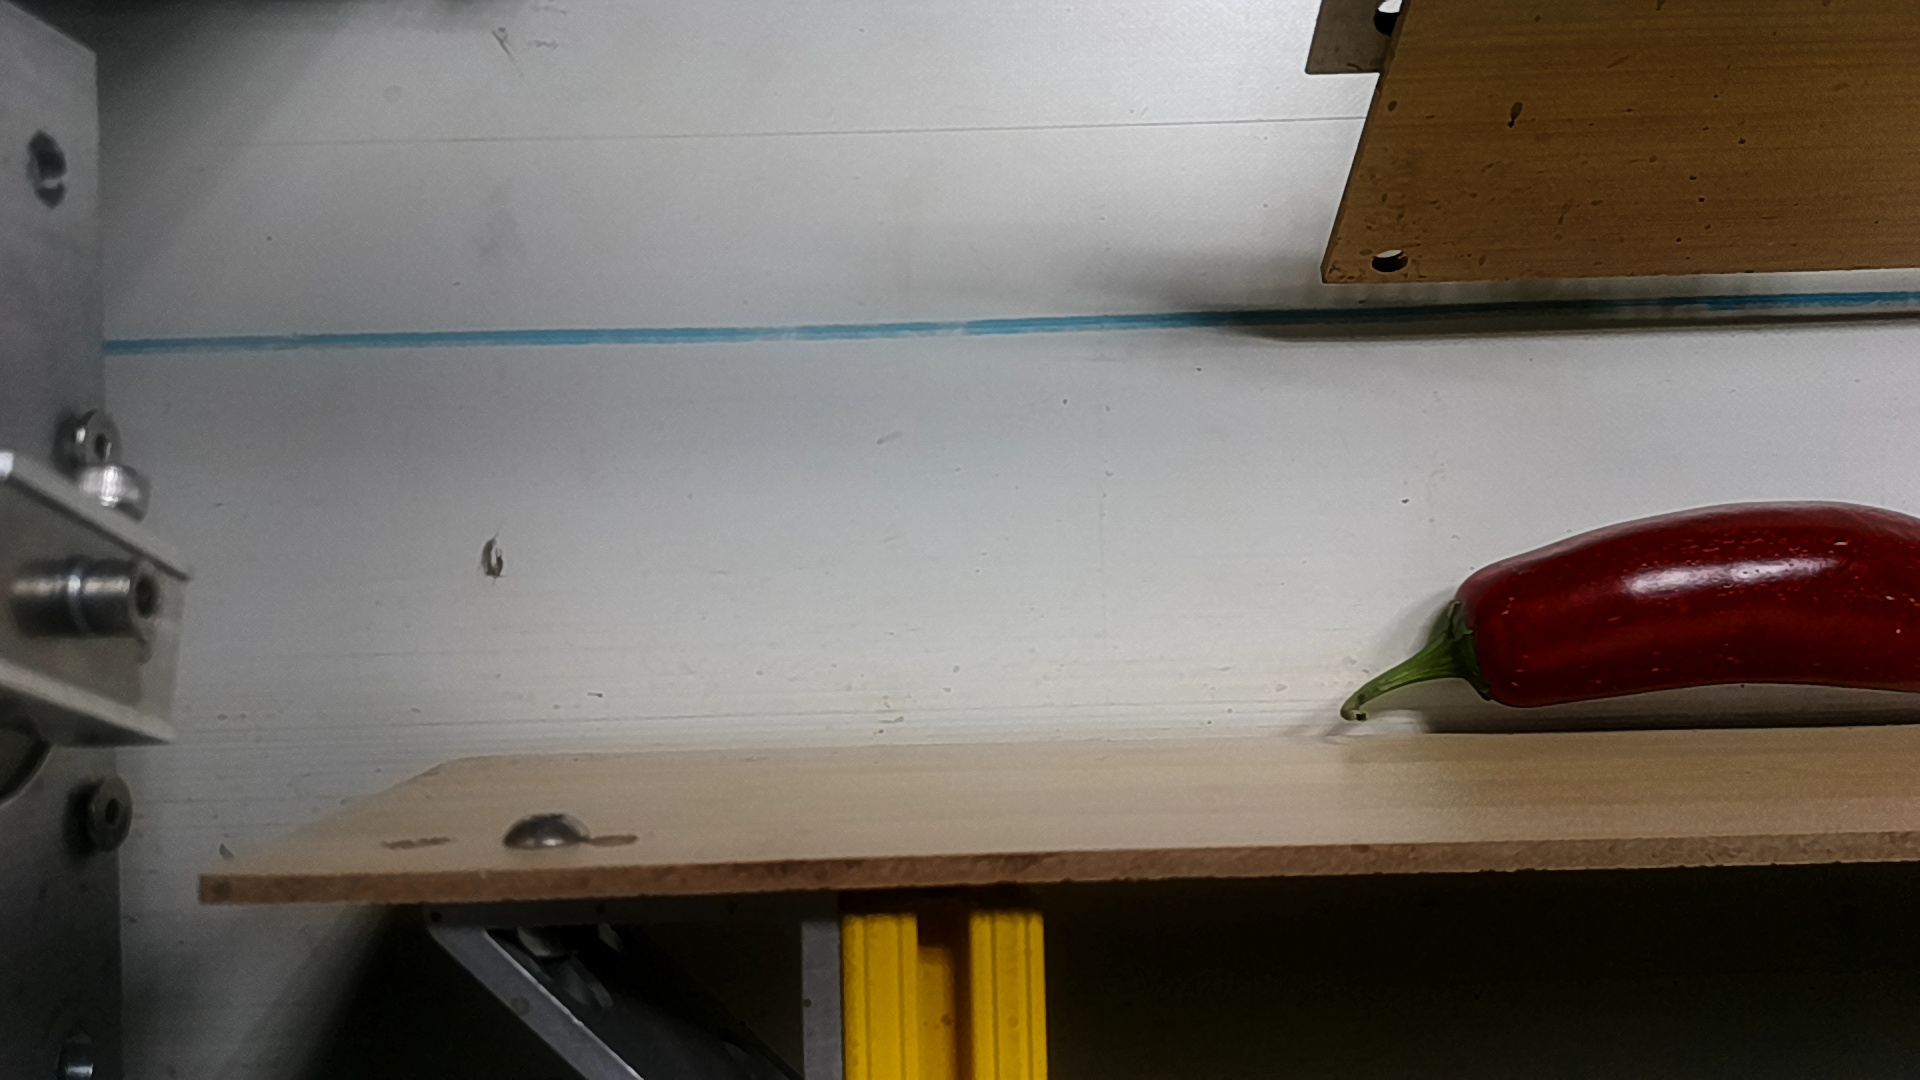Cut Point: (1422, 564, 1535, 713)
